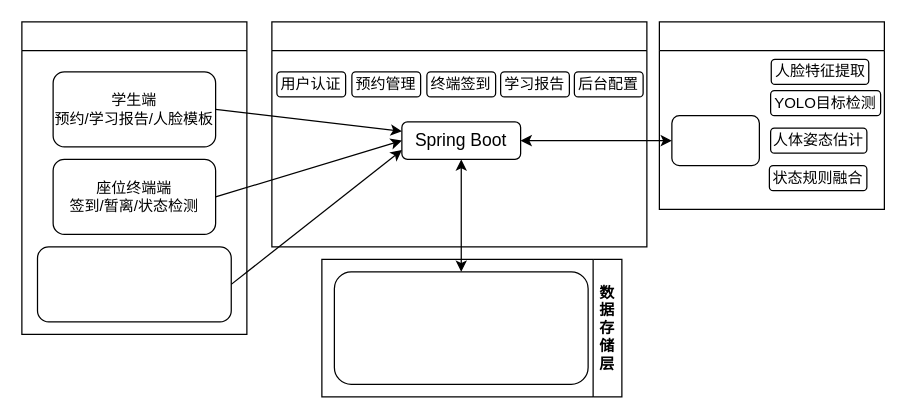
Image size: 906x419. Some labels were removed from this diagram. The box of each missing label's shape, as (x1, y1, x2, y2) in pixels:
AI算法服务层: (658, 21, 884, 209)
FastAPI AI Service: (671, 114, 759, 166)
MySQL数据库 用户/自习室/座位/预约/签到/学习数据/终端设备: (333, 271, 588, 384)
前端展示层: (21, 21, 247, 334)
后端业务层: (271, 21, 647, 247)
管理员端 空间配置/规则配置/终端绑定: (36, 246, 231, 322)
